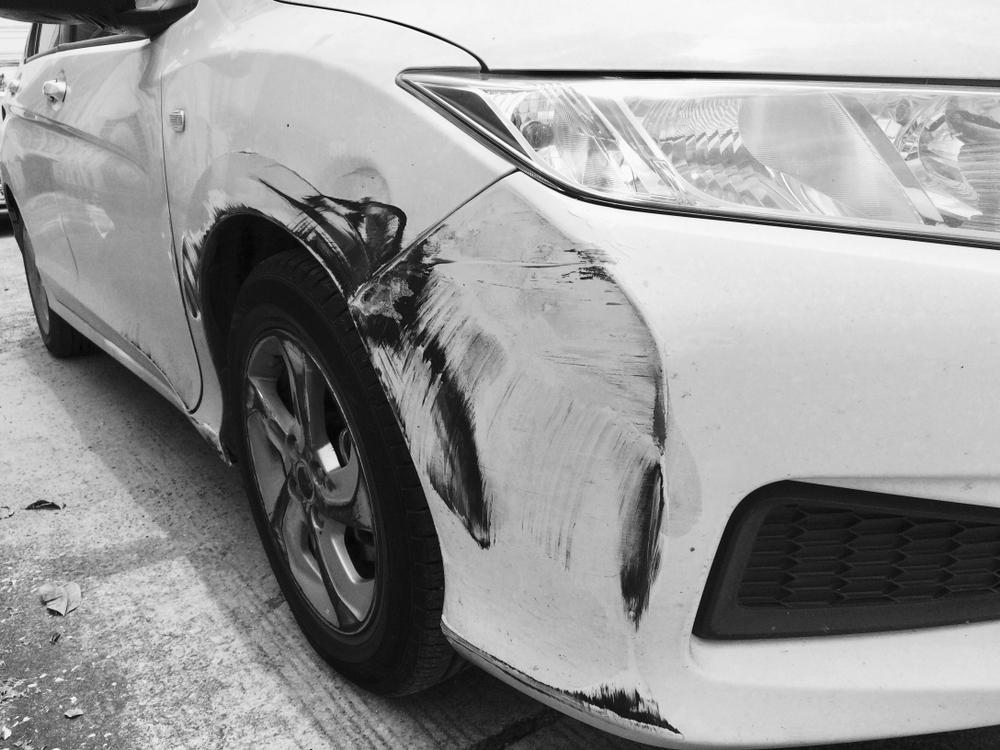scratch: (351, 208, 686, 633), (176, 167, 413, 328), (457, 627, 688, 739)
